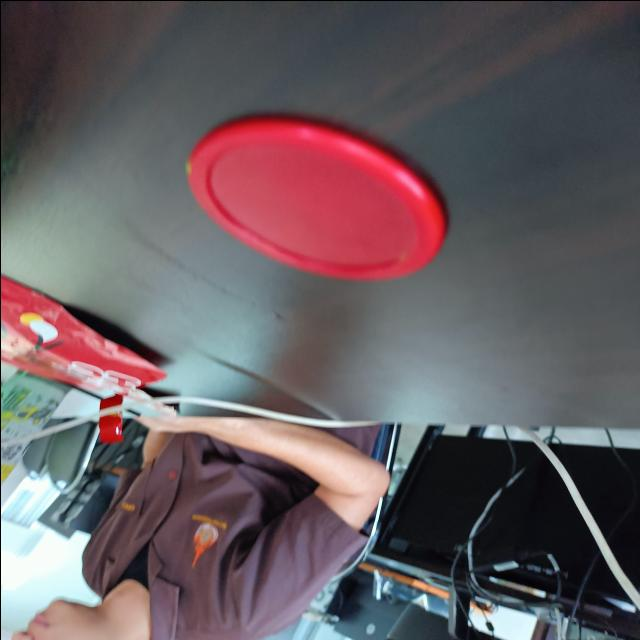chip: (180, 113, 452, 285)
